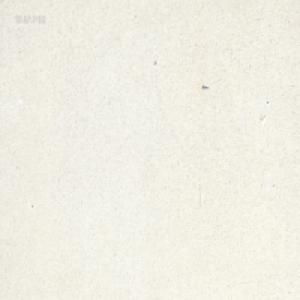Nail: (201, 84, 208, 89)
